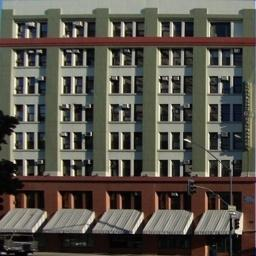building: (0, 1, 256, 256)
